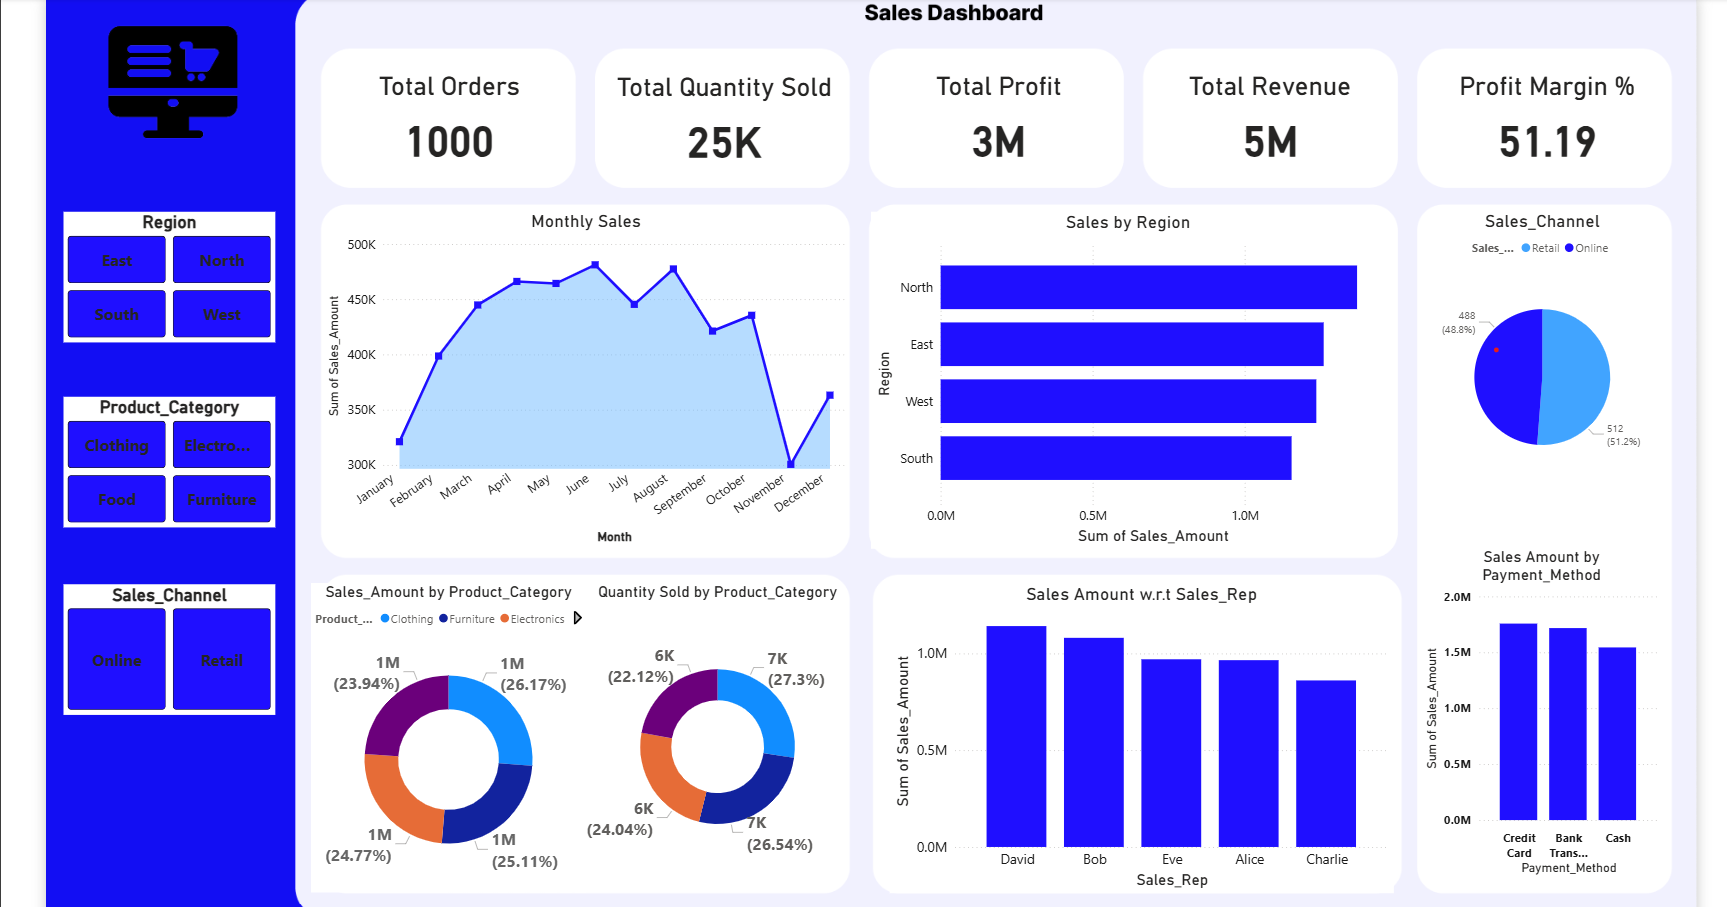

This screenshot's page, from the dashboard's own definition file:
{"tool":"powerbi","page":{"name":"Page 1","canvas":[1920,1080],"ordinal":0},"visuals":[{"type":"clusteredBarChart","title":"Sales by Region","fields":{"Category":["sales sales_data.Region"],"Y":["Sum(sales sales_data.Sales_Amount)"]},"box":[960,248.3,598.3,391.7],"z":0},{"type":"donutChart","title":"Quantity Sold by Product_Category","fields":{"Category":["sales sales_data.Product_Category"],"Y":["Sum(sales sales_data.Quantity_Sold)"]},"box":[628.3,680.7,306.4,360.3],"z":1000},{"type":"pieChart","title":"Sales_Channel","fields":{"Category":["sales sales_data.Sales_Channel"],"Y":["CountNonNull(sales sales_data.Product_ID)"]},"box":[1608.1,247.7,265.1,334.9],"z":2000},{"type":"donutChart","title":"Sales_Amount by Product_Category","fields":{"Category":["sales sales_data.Product_Category"],"Y":["Sum(sales sales_data.Sales_Amount)"]},"box":[308,680.7,320.3,360.3],"z":3000},{"type":"columnChart","title":"Sales Amount w.r.t Sales_Rep","fields":{"Category":["sales sales_data.Sales_Rep"],"Y":["Sum(sales sales_data.Sales_Amount)"]},"box":[982,680.2,586,361],"z":4000},{"type":"lineChart","title":"Monthly Sales","fields":{"Category":["sales sales_data.Sale_Date.Variation.Date Hierarchy.Month"],"Y":["Sum(sales sales_data.Sales_Amount)"]},"box":[320.9,247.7,614,392.4],"z":5000},{"type":"columnChart","title":"Sales Amount by Payment_Method","fields":{"Category":["sales sales_data.Payment_Method"],"Y":["Sum(sales sales_data.Sales_Amount)"]},"box":[1599.4,640.1,280.8,385.5],"z":6000},{"type":"card","title":"Profit Margin %","fields":{"Values":["sales sales_data.Profit Margin %"]},"box":[1620,84.7,252.6,120.1],"z":7000},{"type":"card","title":"Total Revenue","fields":{"Values":["sales sales_data.Total Sales"]},"box":[1290.5,84.7,264.9,120.1],"z":8000},{"type":"card","title":"Total Profit","fields":{"Values":["sales sales_data.Total Profit"]},"box":[982.5,84.7,251,120.1],"z":9000},{"type":"card","title":"Total Quantity Sold","fields":{"Values":["Sum(sales sales_data.Quantity_Sold)"]},"box":[645.4,85.5,280.8,118.6],"z":10000},{"type":"card","title":"Total Orders","fields":{"Values":["sales sales_data.Total Orders"]},"box":[335.7,84.7,266.4,120.1],"z":11000},{"type":"advancedSlicerVisual","fields":{"Values":["sales sales_data.Region"]},"box":[20,248.3,246.7,151.7],"z":12000},{"type":"advancedSlicerVisual","fields":{"Values":["sales sales_data.Product_Category"]},"box":[20,463.3,246.7,151.7],"z":13000},{"type":"advancedSlicerVisual","fields":{"Values":["sales sales_data.Sales_Channel"]},"box":[20,681.7,246.7,151.7],"z":14000}]}

Visuals, with their boxes on the page's 1920x1080 design canvas (x1, y1, x2, y2). These are canvas units, not pixel positions in the 1727x907 screenshot, which may show the page scaled, cropped or inside an application window:
"Sales by Region" clusteredBarChart: {"left": 960, "top": 248, "right": 1558, "bottom": 640}
"Quantity Sold by Product_Category" donutChart: {"left": 628, "top": 681, "right": 935, "bottom": 1041}
"Sales_Channel" pieChart: {"left": 1608, "top": 248, "right": 1873, "bottom": 583}
"Sales_Amount by Product_Category" donutChart: {"left": 308, "top": 681, "right": 628, "bottom": 1041}
"Sales Amount w.r.t Sales_Rep" columnChart: {"left": 982, "top": 680, "right": 1568, "bottom": 1041}
"Monthly Sales" lineChart: {"left": 321, "top": 248, "right": 935, "bottom": 640}
"Sales Amount by Payment_Method" columnChart: {"left": 1599, "top": 640, "right": 1880, "bottom": 1026}
"Profit Margin %" card: {"left": 1620, "top": 85, "right": 1873, "bottom": 205}
"Total Revenue" card: {"left": 1290, "top": 85, "right": 1555, "bottom": 205}
"Total Profit" card: {"left": 982, "top": 85, "right": 1234, "bottom": 205}
"Total Quantity Sold" card: {"left": 645, "top": 86, "right": 926, "bottom": 204}
"Total Orders" card: {"left": 336, "top": 85, "right": 602, "bottom": 205}
advancedSlicerVisual - sales sales_data.Region: {"left": 20, "top": 248, "right": 267, "bottom": 400}
advancedSlicerVisual - sales sales_data.Product_Category: {"left": 20, "top": 463, "right": 267, "bottom": 615}
advancedSlicerVisual - sales sales_data.Sales_Channel: {"left": 20, "top": 682, "right": 267, "bottom": 833}
